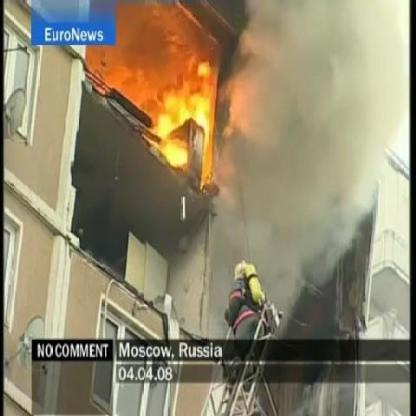fire: (146, 58, 221, 164)
